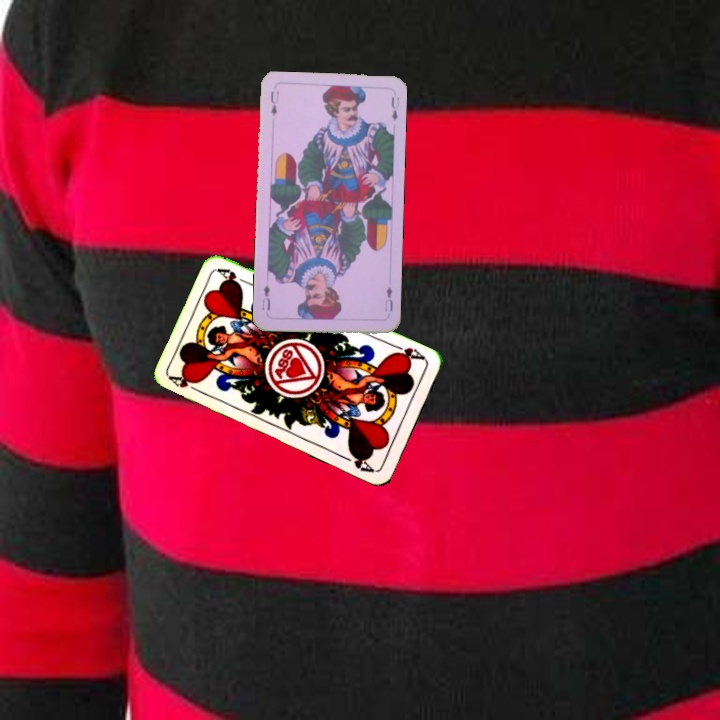EU: (380, 282, 395, 314), (267, 87, 281, 119)
HA: (166, 371, 205, 396), (388, 341, 428, 364)
